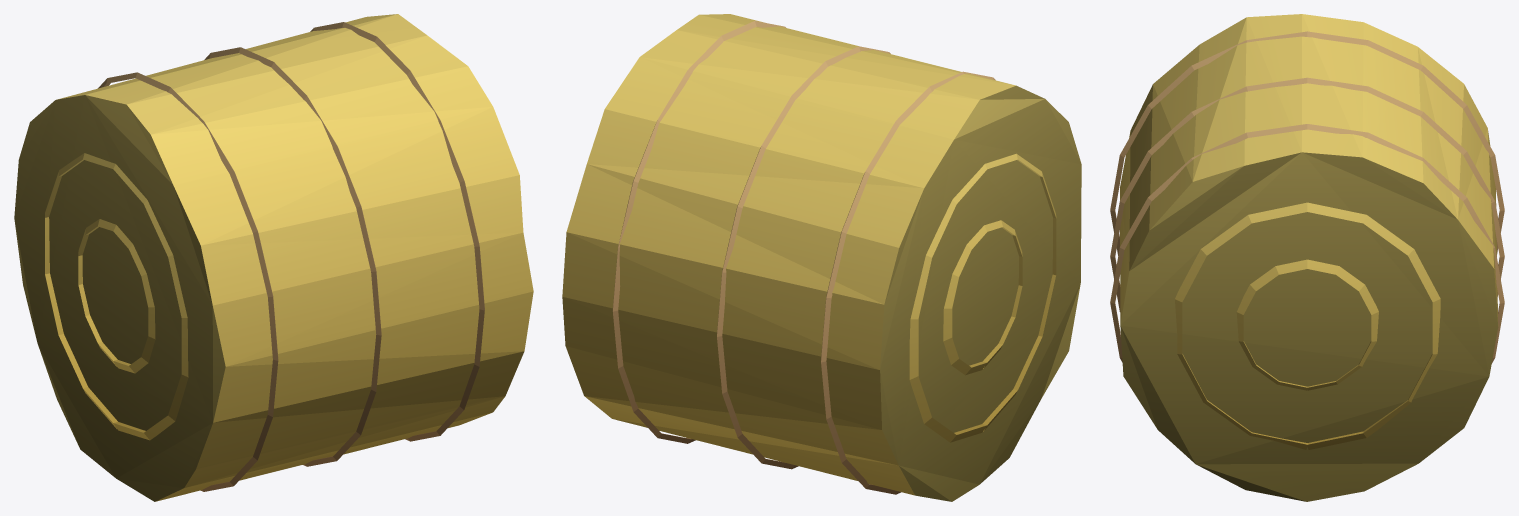
The model's file is HayBale_Round.fbx.
The picture shows the model from 3 angles, left to right: view 1: azimuth 30°, elevation 25°; view 2: azimuth 150°, elevation 25°; view 3: azimuth 270°, elevation 25°; orthographic projection. The views are drawn at different scales.
Visible parts, largest first — view 1: HayBale_Round_LOD0; view 2: HayBale_Round_LOD0; view 3: HayBale_Round_LOD0.
Boxes of the visible parts, box(x1,y1,x2,y2) form: HayBale_Round_LOD0: box(14, 14, 533, 501); HayBale_Round_LOD0: box(562, 14, 1081, 501); HayBale_Round_LOD0: box(1110, 14, 1504, 501).
Size of what is drawn, in the model's own units: 1.24 by 1.44 by 1.44.
1 material, 1 textured.
